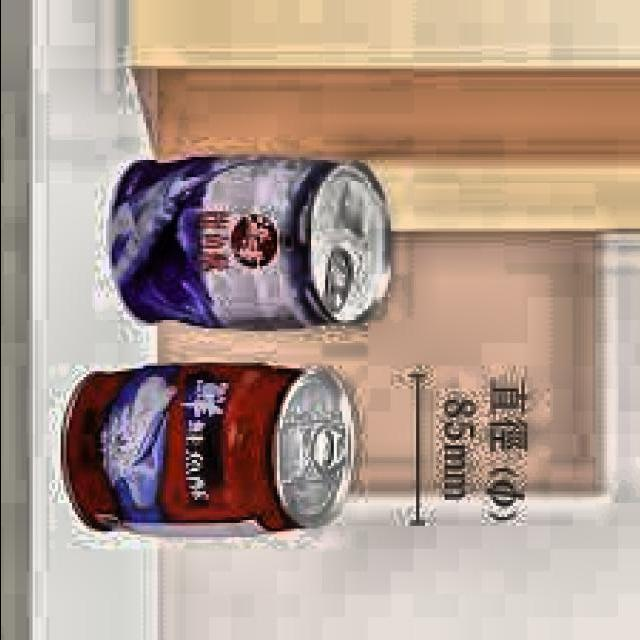Aluminum Can: (54, 358, 360, 544), (100, 144, 400, 331)
